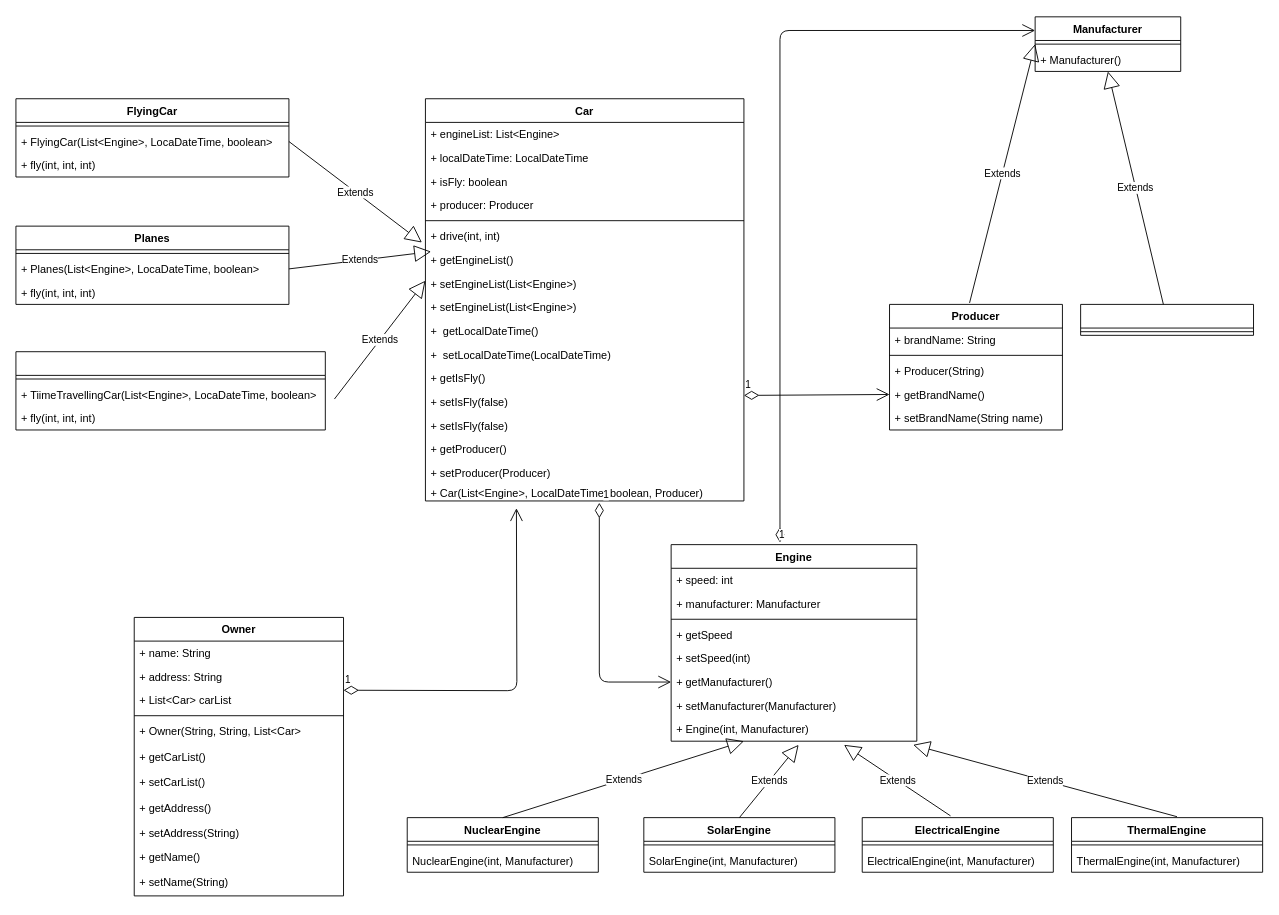
The diagram is 1279 pixels wide and 915 high, and some of its shapes have lost their labels. Here are the shapes that lost their labels. From the top down, the box of each, then its label:
(1080, 303, 1254, 335): EngineManufacturer
(15, 351, 325, 430): TimeTravellingCar
